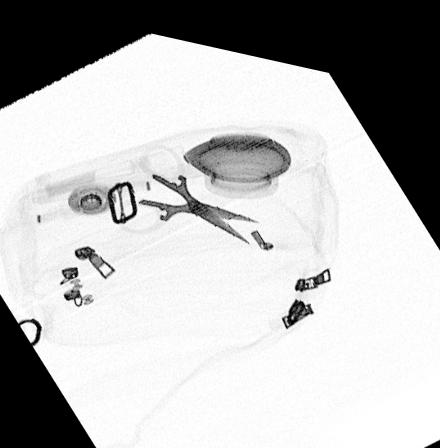Scissors: (107, 134, 262, 236)
